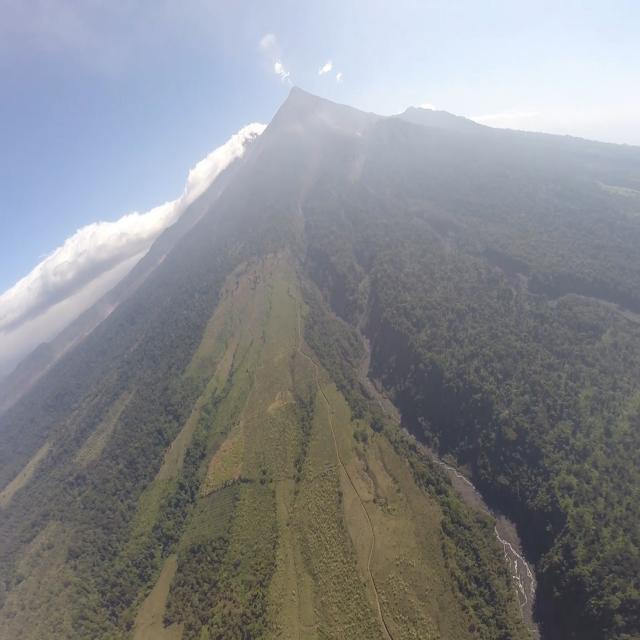Plume: (273, 58, 287, 82)
Summit: (287, 82, 309, 104)
